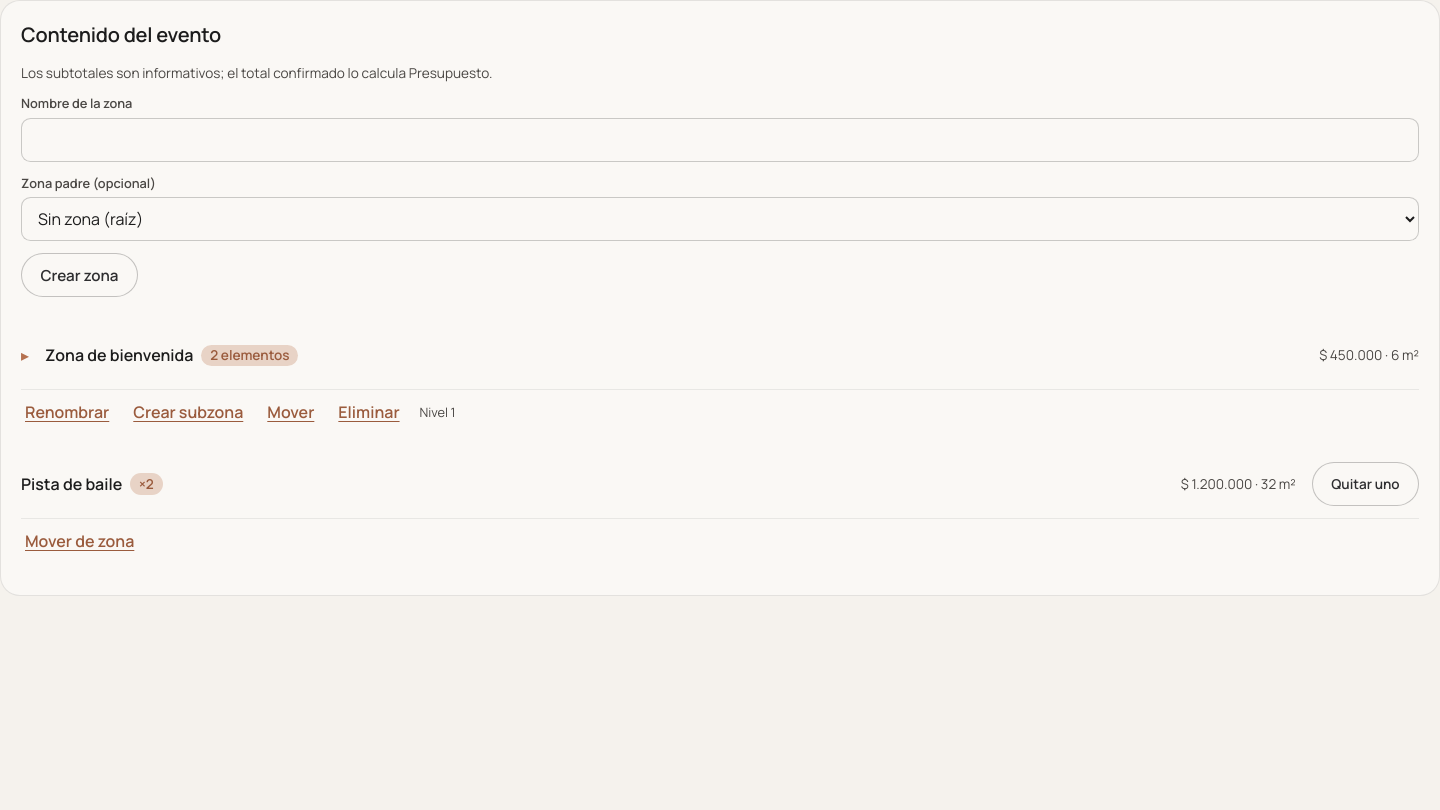
Test: PackageContents (DECOR-22) › si el elemento ya no existe (404) muestra el error y resincroniza con el servidor
This screenshot has width=1440, height=810.
Click the button with aria-label "Quitar una unidad de Pista de baile": coordinates (1365, 484) [1312,462,1419,506]
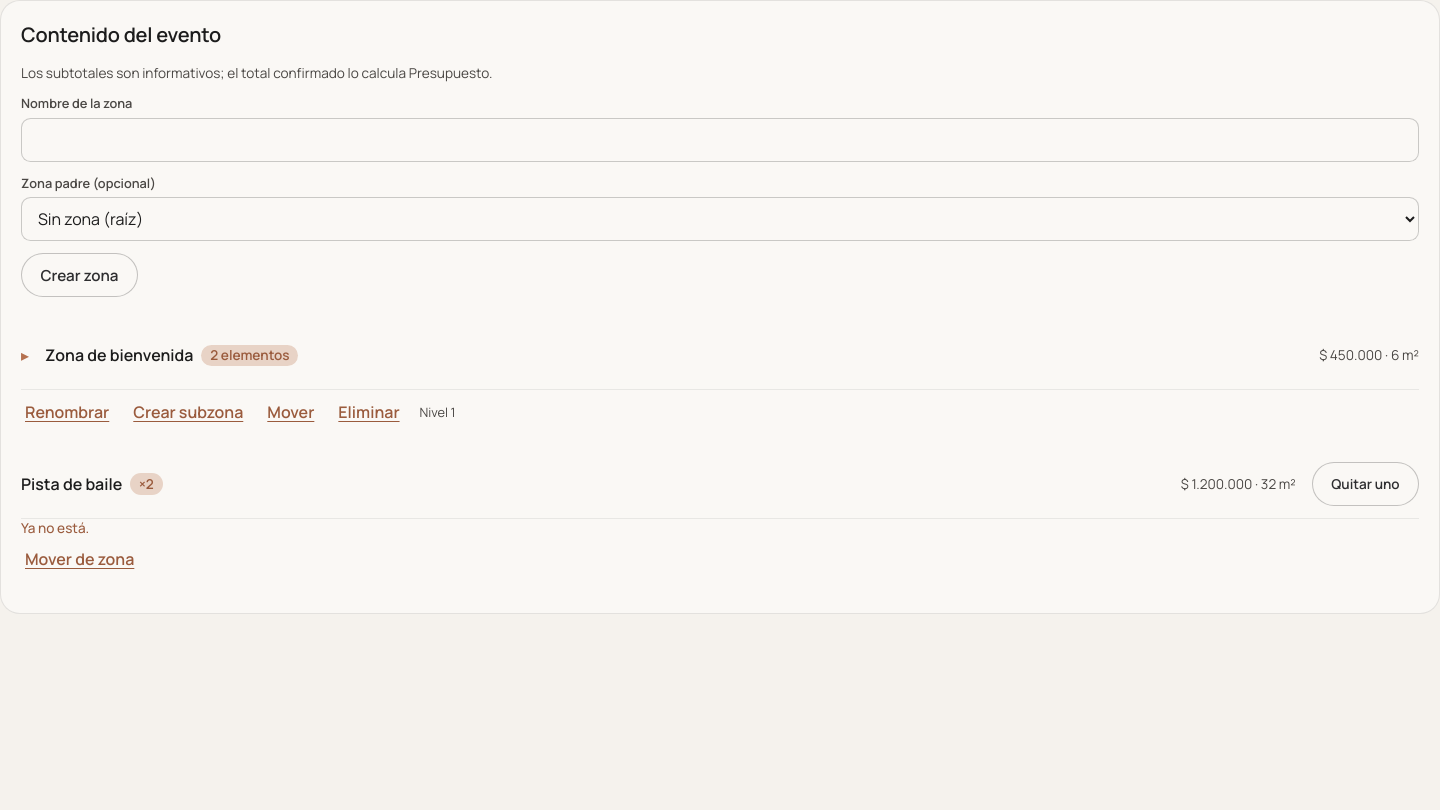
Expected: the message reads "Ya no está.", [21,519,89,537]
